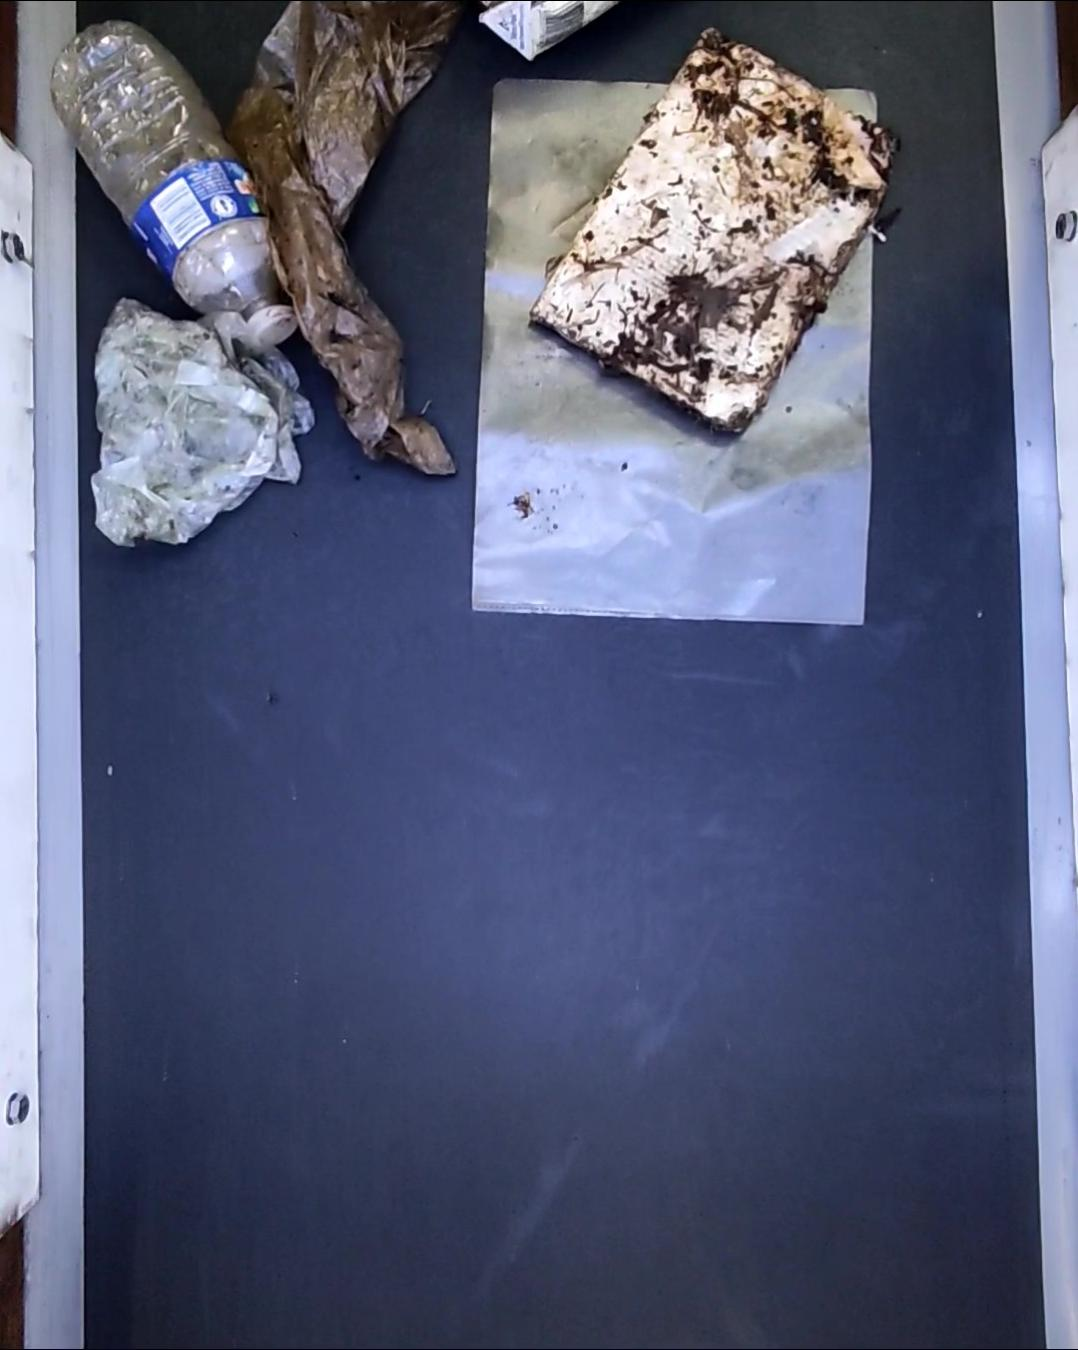Drankflessen - 1-2 liter: (45, 15, 294, 345)
Plastic folies of stukken daarvan 2.5- 50 cm: (476, 70, 872, 627), (229, 0, 464, 479), (89, 300, 307, 552)
